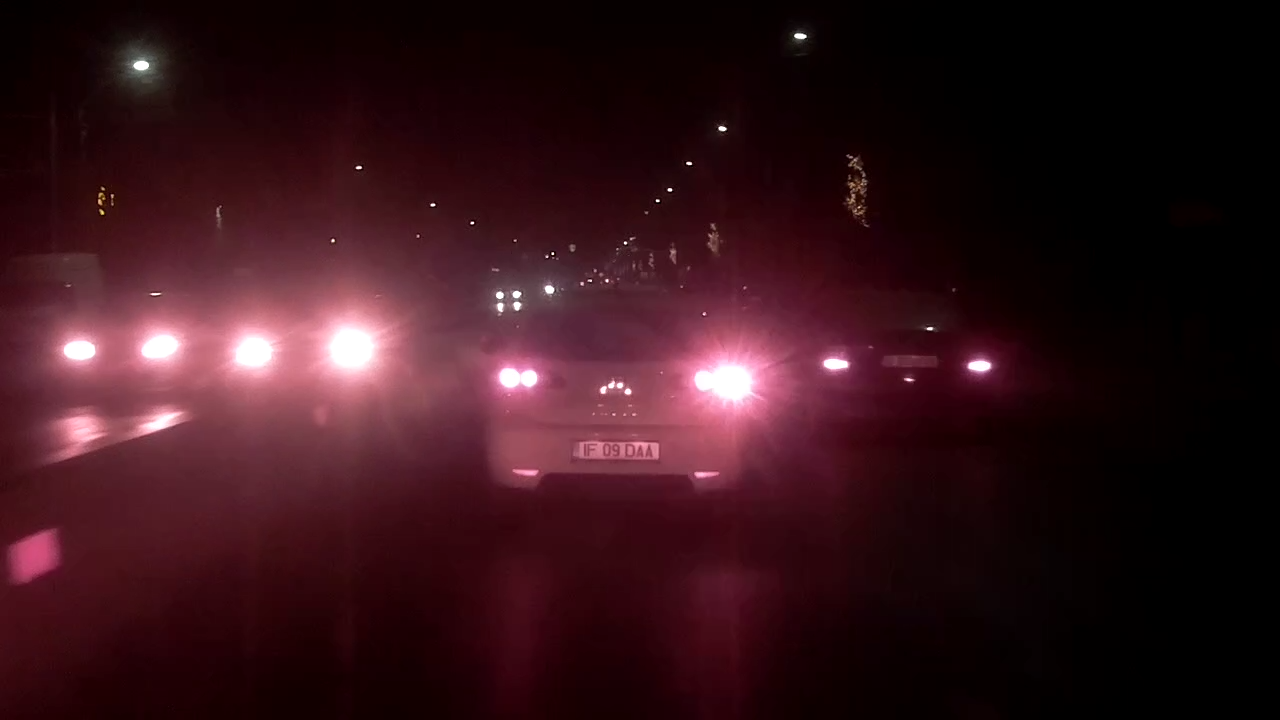license-plate: (569, 437, 663, 464)
